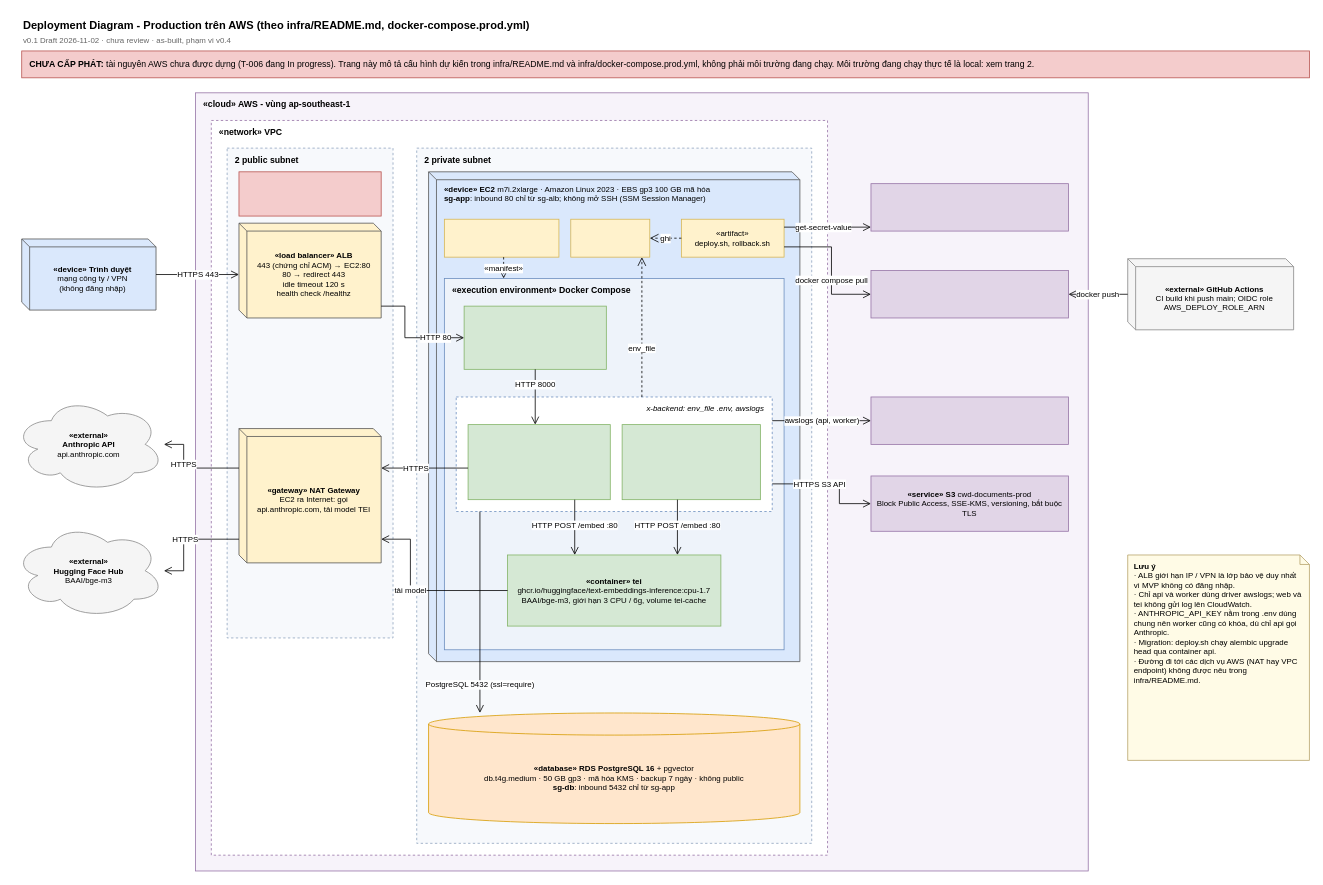
This 1323x885 diagram has some shape labels left out. The centre of each missing label's shape, as x and y in pixels:
"sg-alb : inbound 443 + 80 chỉ từ CIDR công ty. Không bao giờ mở 0.0.0.0/0" goes at (309,193).
"«artifact» .env (mode 600)" goes at (610,237).
"«artifact» docker-compose.prod.yml" goes at (501,237).
"«container» api cwd-api:${TAG} uvicorn --workers 2, cổng 8000" goes at (538,462).
"«container» web cwd-web:${TAG} nginx, cổng 80:80 SPA + proxy /api, /healthz" goes at (534,337).
"«container» worker cwd-api:${TAG}, replicas: 2 python -m app.worker.main" goes at (690,462).
"«service» CloudWatch Logs log group /cwd/prod" goes at (969,420).
"«service» ECR repository cwd-api, cwd-web" goes at (969,294).
"«service» Secrets Manager secret cwd/prod" goes at (969,207).
